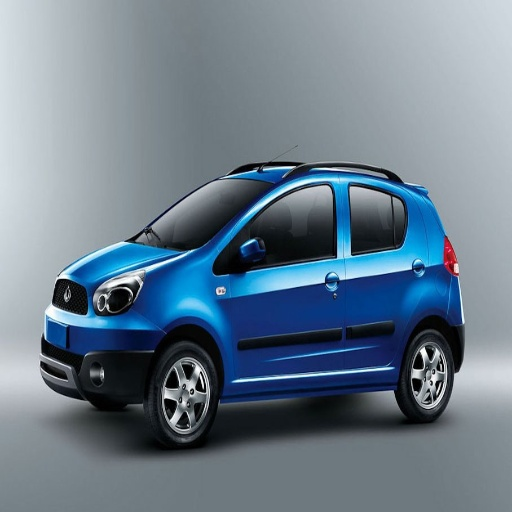back_left_door: (339, 177, 428, 368)
front_bumper: (40, 277, 160, 407)
front_glass: (133, 178, 262, 249)
front_left_door: (225, 180, 348, 377)
